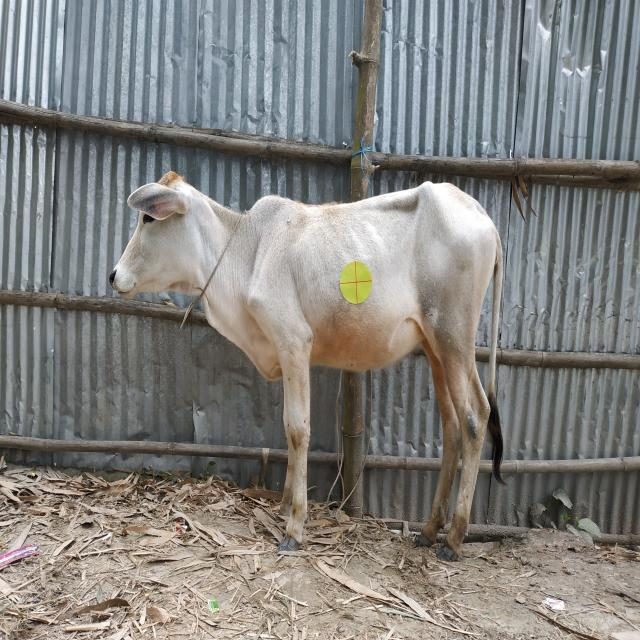badan_sapi: (250, 208, 493, 372)
sapi: (102, 156, 530, 565)
